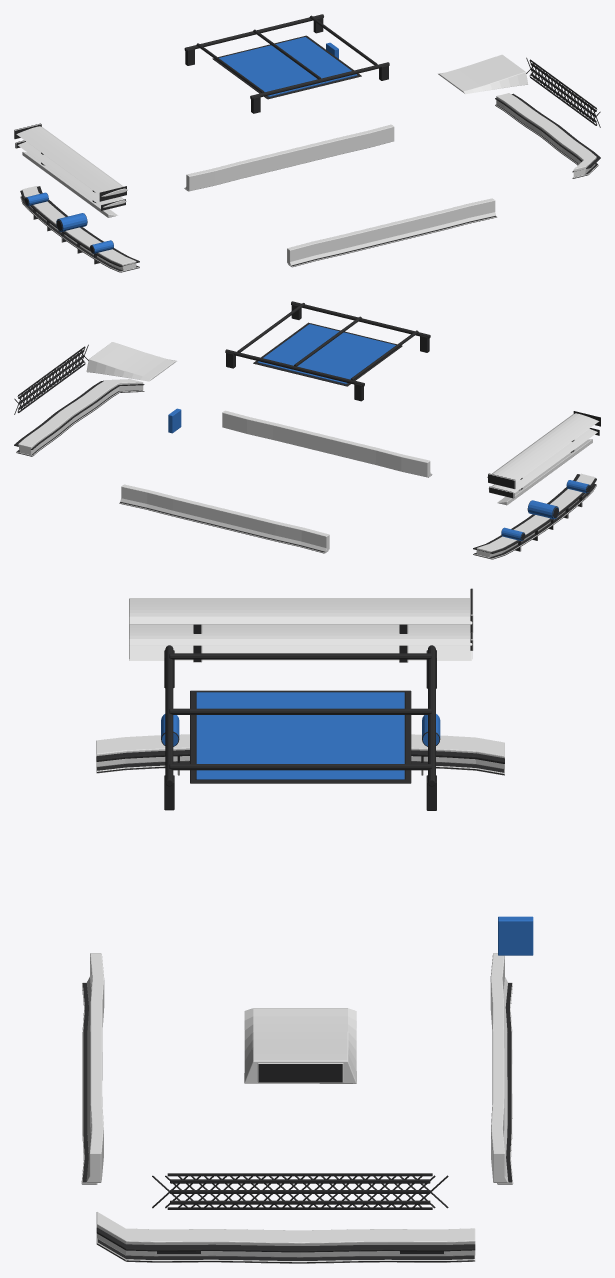
Rendered from lambari_pecas.glb.
3 views of the same model, one above another, from view 1: azimuth 30°, elevation 25°; view 2: azimuth 150°, elevation 25°; view 3: azimuth 270°, elevation 25° (orthographic). The views are drawn at different scales.
Parts seen in each view (by area): view 1: saia__esportiva, teto__solar, teto__bagageiro, spoiler__alto, bumper_front__esportivo, saia__lisa, hood__tomada, bumper_rear__esportivo, spoiler__medio, grade__tela, spoiler__labio, bumper_rear__difusor (+4 smaller); view 2: saia__esportiva, teto__solar, saia__lisa, teto__bagageiro, spoiler__alto, bumper_front__esportivo, hood__tomada, bumper_rear__esportivo, spoiler__medio, grade__tela, spoiler__labio, bumper_rear__difusor (+4 smaller); view 3: teto__solar, bumper_front__esportivo, spoiler__alto, saia__esportiva, hood__tomada, teto__bagageiro, spoiler__medio, bumper_rear__esportivo, grade__tela, spoiler__labio, grade__barras, bumper_front__lip (+2 smaller).
Part boxes in pixels (bbox=[...]): saia__esportiva: bbox=[184, 124, 497, 267]; teto__solar: bbox=[212, 35, 361, 99]; teto__bagageiro: bbox=[184, 14, 389, 113]; spoiler__alto: bbox=[14, 123, 127, 202]; bumper_front__esportivo: bbox=[495, 93, 598, 178]; saia__lisa: bbox=[188, 132, 495, 262]; hood__tomada: bbox=[438, 54, 528, 94]; bumper_rear__esportivo: bbox=[20, 186, 139, 272]; spoiler__medio: bbox=[15, 140, 126, 210]; grade__tela: bbox=[526, 57, 600, 127]; spoiler__labio: bbox=[22, 151, 117, 217]; bumper_rear__difusor: bbox=[20, 186, 139, 266]; saia__esportiva: bbox=[119, 410, 432, 553]; teto__solar: bbox=[253, 322, 402, 386]; saia__lisa: bbox=[123, 414, 430, 548]; teto__bagageiro: bbox=[225, 301, 430, 401]; spoiler__alto: bbox=[487, 411, 600, 490]; bumper_front__esportivo: bbox=[16, 379, 144, 456]; hood__tomada: bbox=[86, 342, 176, 381]; bumper_rear__esportivo: bbox=[473, 473, 596, 559]; spoiler__medio: bbox=[488, 428, 599, 498]; grade__tela: bbox=[14, 344, 88, 414]; spoiler__labio: bbox=[497, 439, 592, 505]; bumper_rear__difusor: bbox=[473, 474, 596, 553]; teto__solar: bbox=[190, 690, 411, 783]; bumper_front__esportivo: bbox=[96, 1212, 475, 1263]; spoiler__alto: bbox=[129, 588, 473, 662]; saia__esportiva: bbox=[81, 953, 513, 1184]; hood__tomada: bbox=[244, 1008, 356, 1083]; teto__bagageiro: bbox=[164, 645, 436, 810]; spoiler__medio: bbox=[129, 624, 473, 662]; bumper_rear__esportivo: bbox=[96, 734, 504, 775]; grade__tela: bbox=[152, 1173, 448, 1209]; spoiler__labio: bbox=[129, 645, 472, 660]; grade__barras: bbox=[170, 1179, 430, 1204]; bumper_front__lip: bbox=[96, 1227, 475, 1252].
Bounding box in the file's own units: 4.08 × 1.25 × 1.57.
